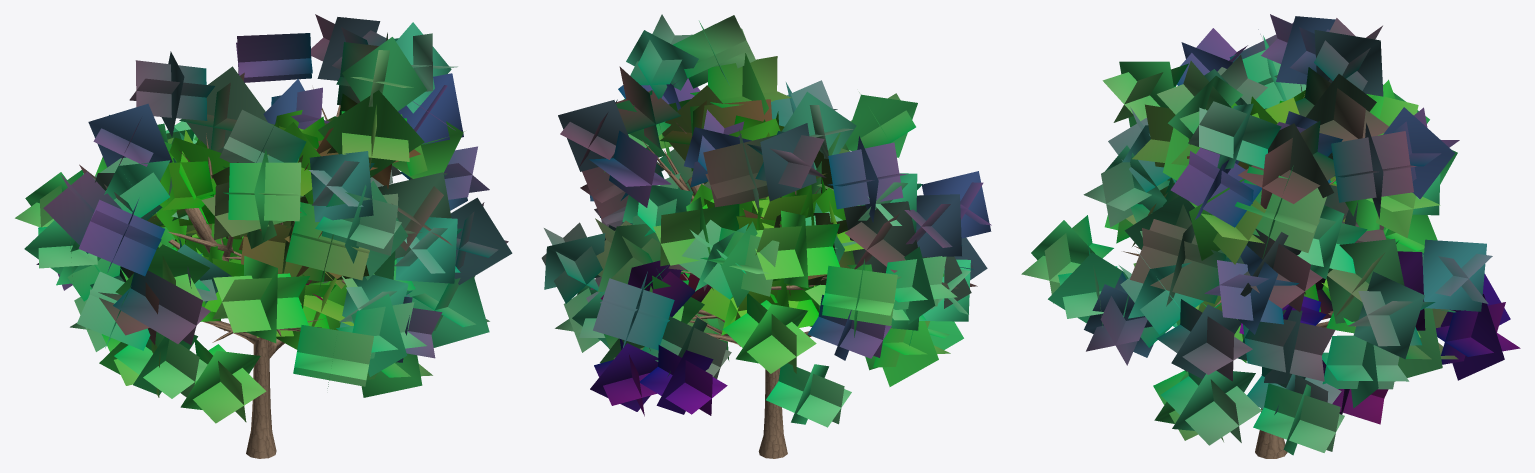
File: Oak_LOD0_P2557_B1800_L600_v02.fbx
3 views of the same model, side by side, from view 1: azimuth 30°, elevation 25°; view 2: azimuth 150°, elevation 25°; view 3: azimuth 270°, elevation 25° (orthographic). The views are drawn at different scales.
Visible parts, largest first — view 1: oakleafcard.png_1, white_oak_bark_v01_0; view 2: oakleafcard.png_1, white_oak_bark_v01_0; view 3: oakleafcard.png_1, white_oak_bark_v01_0.
Boxes of the visible parts, box(x1,y1,x2,y2) form: oakleafcard.png_1: box(15, 14, 512, 423); white_oak_bark_v01_0: box(167, 88, 414, 458); oakleafcard.png_1: box(541, 14, 991, 427); white_oak_bark_v01_0: box(642, 120, 892, 458); oakleafcard.png_1: box(1021, 14, 1520, 455); white_oak_bark_v01_0: box(1123, 94, 1356, 458).
Bounding box in the file's own units: 1271 × 1173 × 1229.
